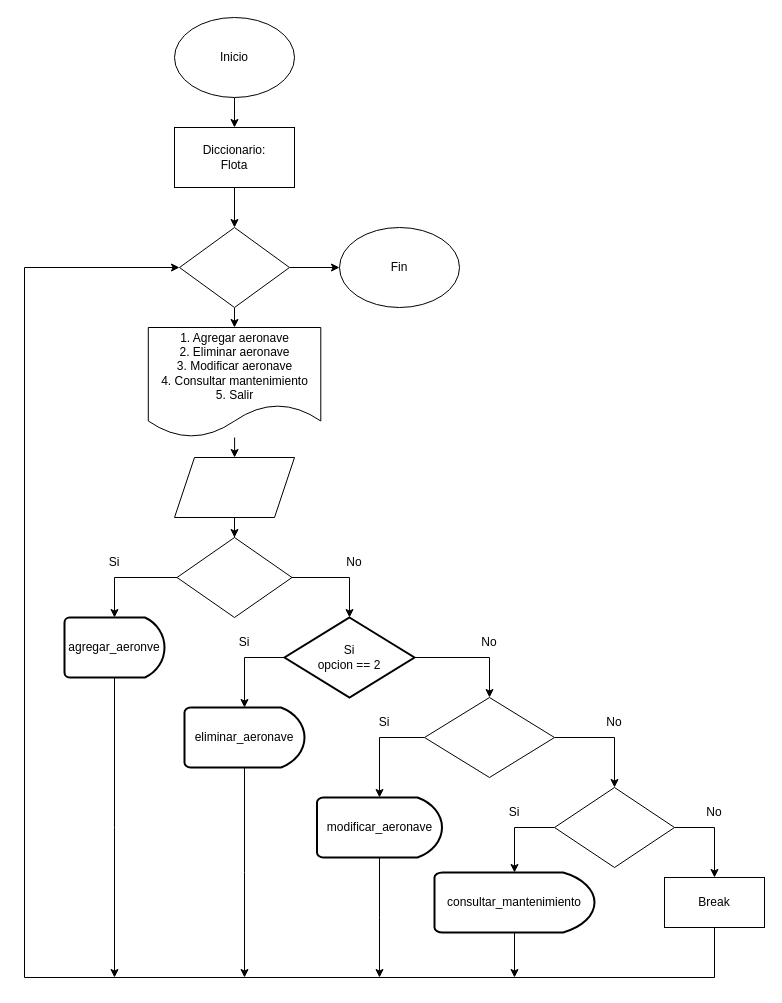
This 782x1003 diagram has some shape labels left out. The shapes that lost their labels are listed below. From the top down, each one's centre as x and y in pixels, then its label:
At (234,267): "While True".
At (234,487): "opcion".
At (234,577): "Si opcion == 1".
At (489,737): "Si opcion == 3".
At (614,827): "Si opcion == 4".
